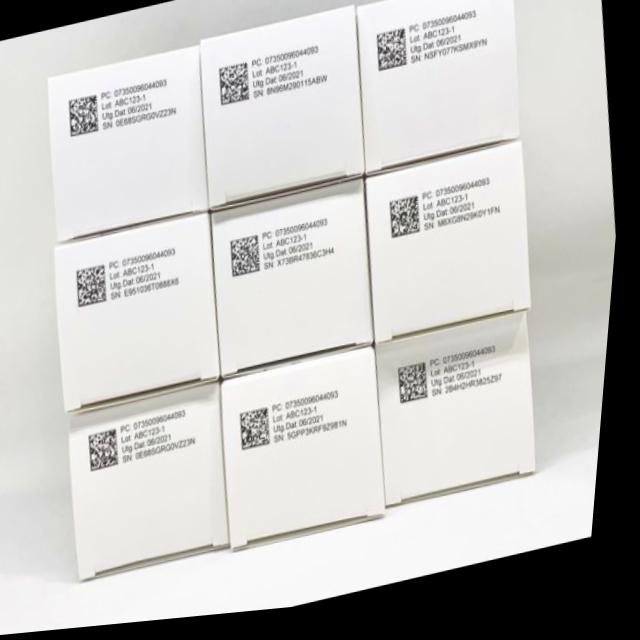datamatrix: (390, 200, 433, 251), (65, 93, 107, 144), (216, 64, 258, 115), (372, 34, 414, 85), (229, 234, 271, 285), (77, 262, 119, 313), (91, 428, 133, 479), (243, 408, 285, 459), (400, 367, 442, 418)
